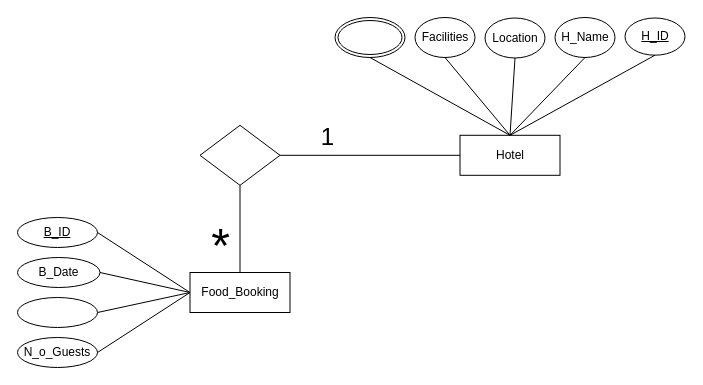
The diagram is 703 pixels wide and 385 high, and some of its shapes have lost their labels. Each missing label, with the centre of its shape:
"Manages" goes at pixel 239 154.
"Meal_Type" goes at pixel 57 312.
"Ratings" goes at pixel 369 37.
